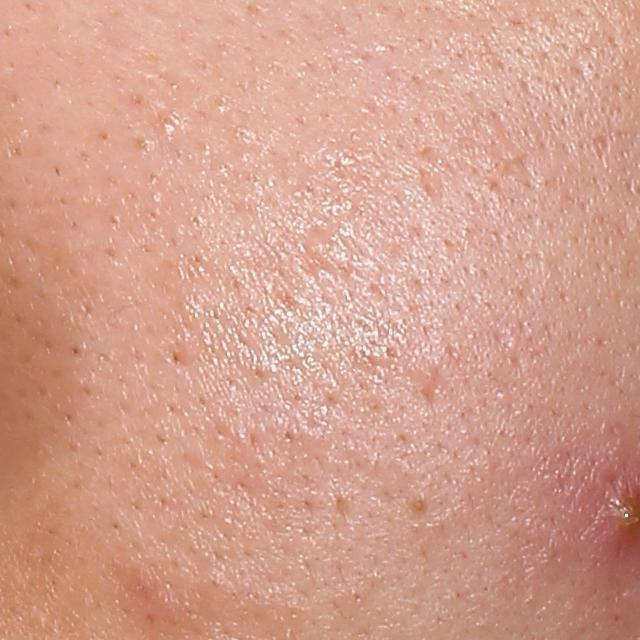atrophic_scar: (496, 137, 545, 193), (576, 131, 614, 169), (416, 167, 448, 205)
comedo: (382, 342, 402, 362)
